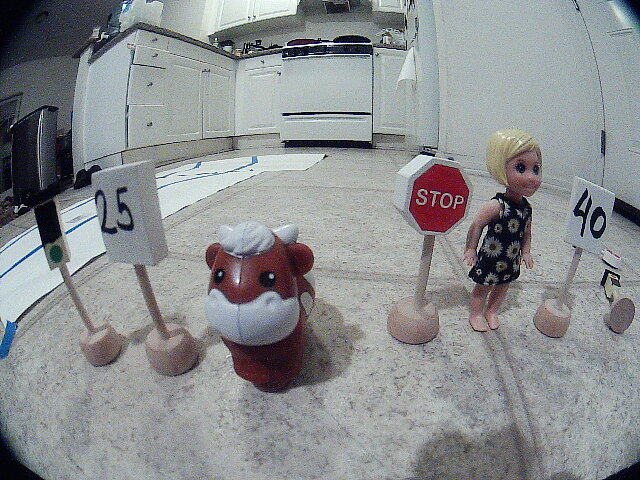Cow: (192, 217, 347, 405)
Green Traffic Light: (18, 187, 93, 283)
Person: (461, 125, 544, 342)
Speed Limit 25: (80, 173, 190, 279)
Speed Limit 40: (555, 169, 627, 268)
Stop Sign: (387, 144, 475, 244)
